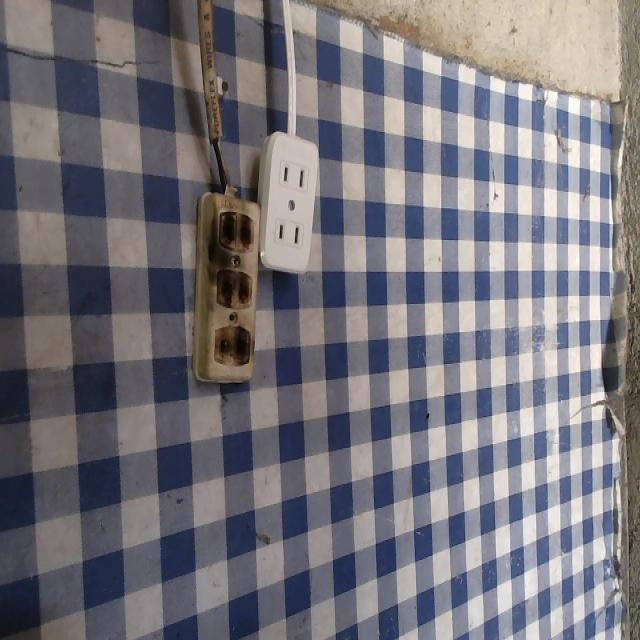-: (214, 262, 258, 306), (211, 322, 253, 367), (217, 208, 257, 255)
